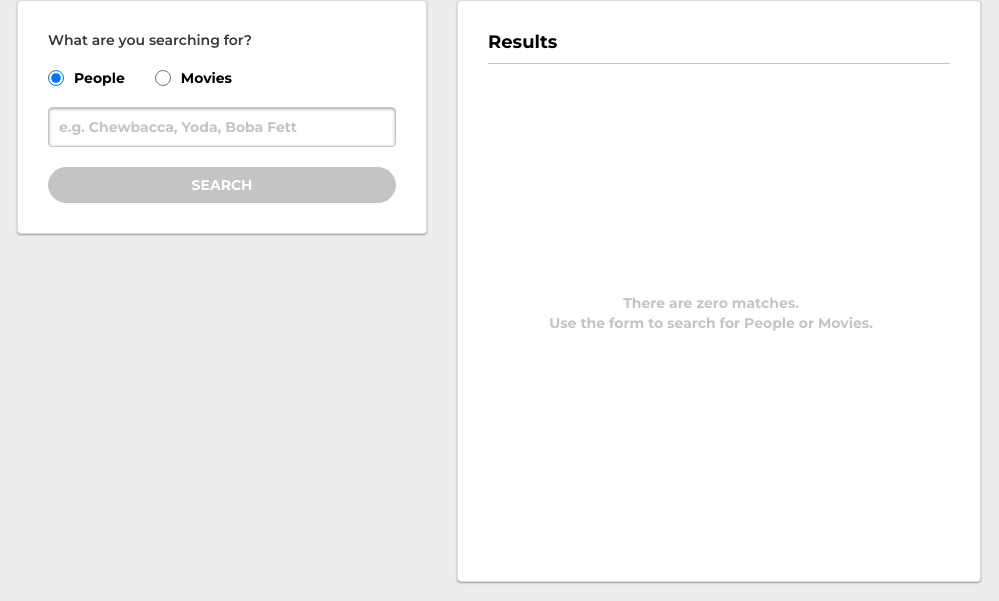
Home › should enable search button if input has value
The width and height of the screenshot is (999, 601).
expect the button "SEARCH" is disabled: met, box [48,167,396,203]
In the field: (222,127) [48,107,396,147], type "test"
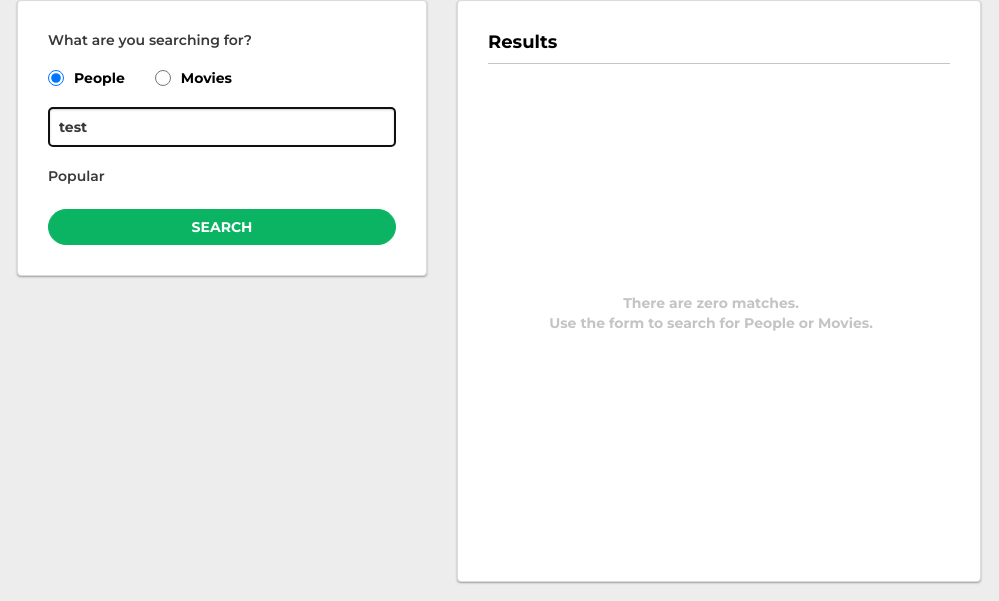
expect the button "SEARCH" is enabled: met, box [48,209,396,245]
